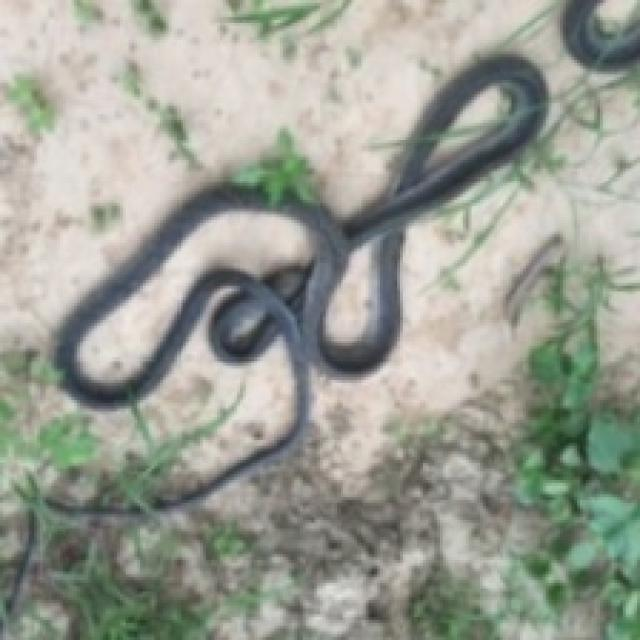king cobra: (54, 51, 549, 506), (54, 54, 546, 506), (77, 209, 314, 380), (80, 209, 314, 380)
